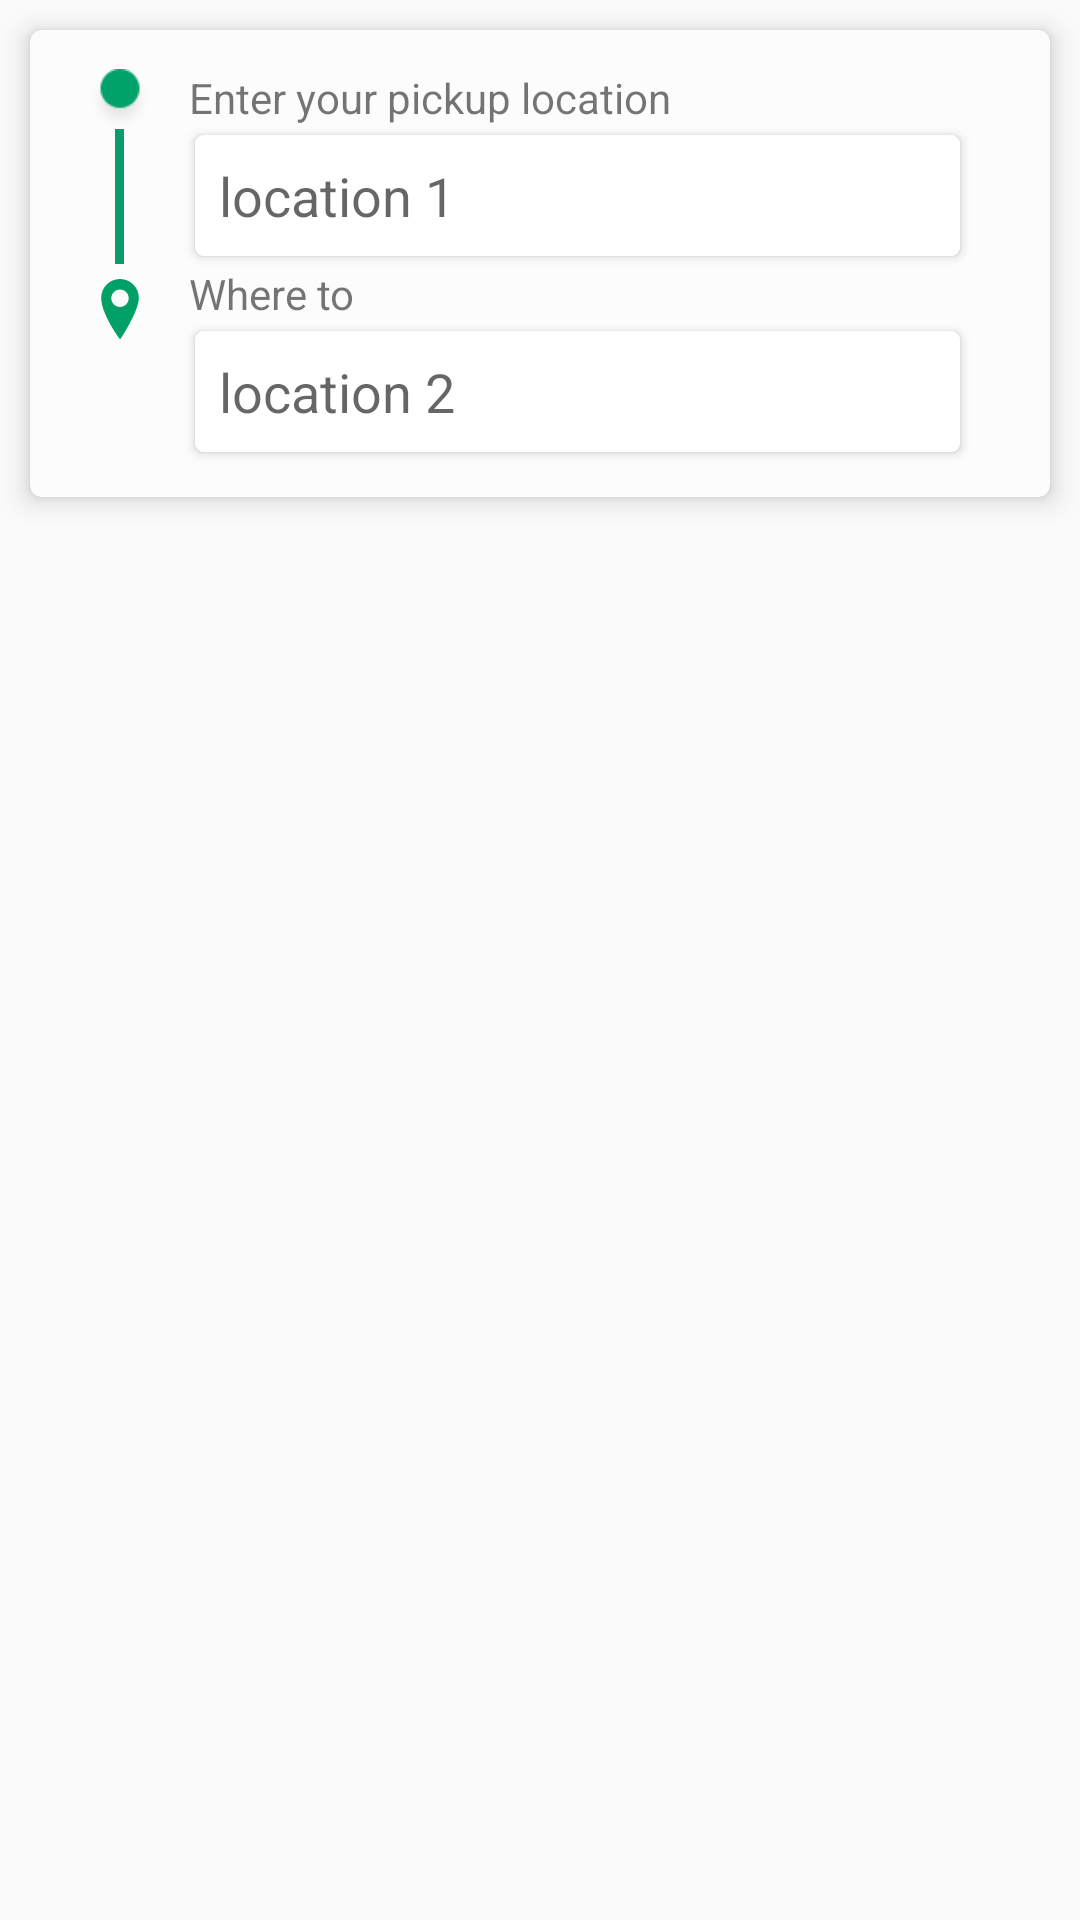

Icon bounding boxes for this 1080 x 1920 phone screenshot, format (x1, y1, x2, y2):
location marker: (101, 279, 139, 339)
